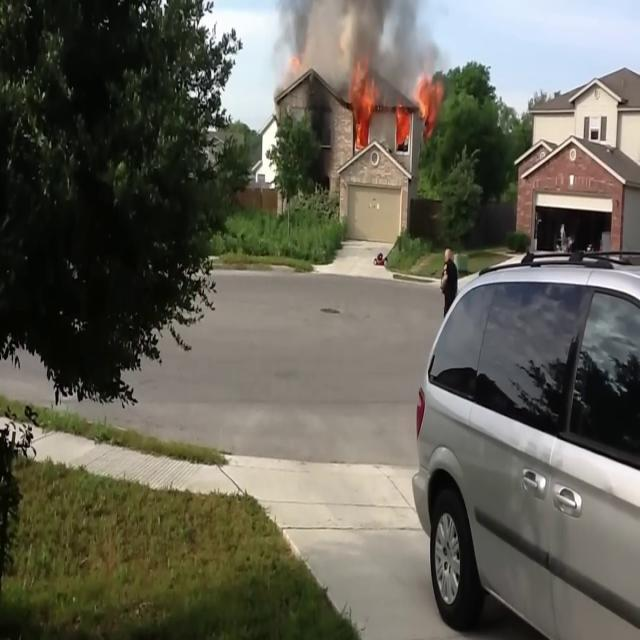Fire: (348, 57, 380, 152)
Smoke: (279, 1, 433, 97)
